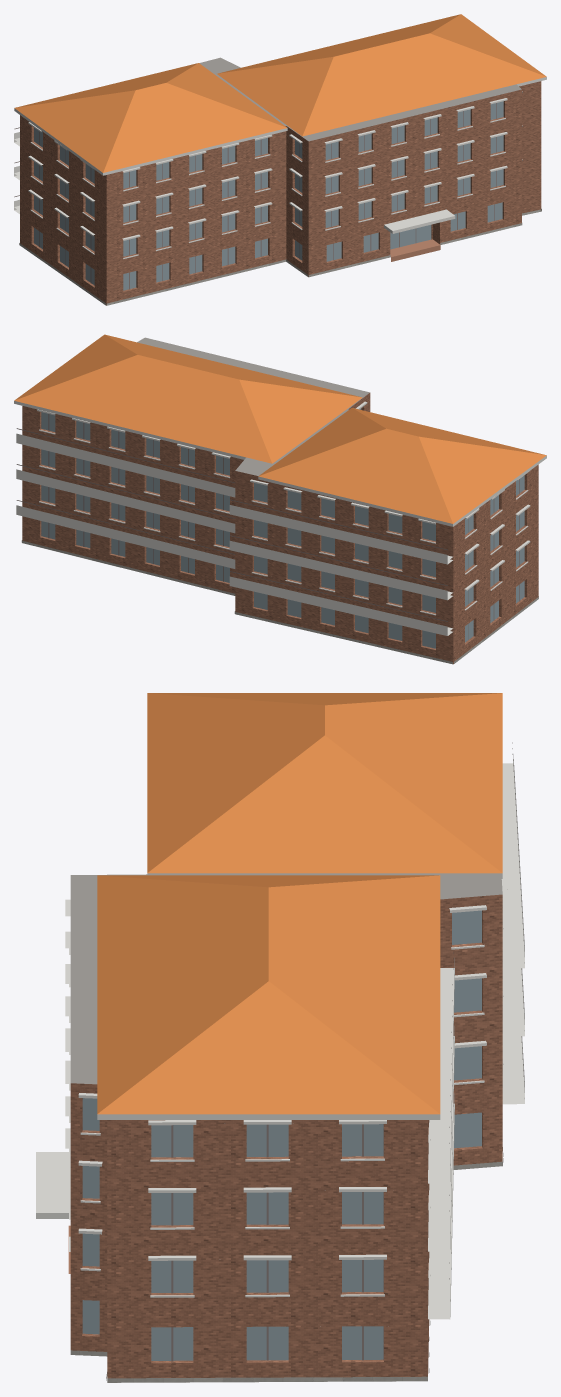
3 views of the same model, one above another, from view 1: azimuth 30°, elevation 25°; view 2: azimuth 150°, elevation 25°; view 3: azimuth 270°, elevation 25° (orthographic). The views are drawn at different scales.
Parts seen in each view (by area): view 1: osm136242801__wall, osm136242801__roofAccent, osm136242801__glass, osm136242801__trim, osm136242801__roof, osm136242801__base, osm136242801__frame, osm136242801__canopy, osm136242801__entranceThreshold_0; view 2: osm136242801__wall, osm136242801__roofAccent, osm136242801__trim, osm136242801__glass, osm136242801__frame, osm136242801__roof, osm136242801__base; view 3: osm136242801__roofAccent, osm136242801__wall, osm136242801__glass, osm136242801__trim, osm136242801__roof, osm136242801__canopy, osm136242801__base, osm136242801__frame.
Part boxes in pixels (x1,y1,x2,y2): osm136242801__wall: [20, 81, 541, 305]; osm136242801__roofAccent: [14, 14, 546, 172]; osm136242801__glass: [34, 101, 503, 290]; osm136242801__trim: [14, 77, 546, 259]; osm136242801__roof: [106, 57, 521, 305]; osm136242801__base: [19, 209, 541, 305]; osm136242801__frame: [14, 103, 496, 289]; osm136242801__canopy: [384, 209, 455, 233]; osm136242801__entranceThreshold_0: [390, 239, 440, 261]; osm136242801__wall: [22, 393, 538, 664]; osm136242801__roofAccent: [14, 334, 546, 523]; osm136242801__trim: [14, 401, 546, 635]; osm136242801__glass: [41, 408, 524, 648]; osm136242801__frame: [16, 414, 519, 640]; osm136242801__roof: [137, 337, 369, 475]; osm136242801__base: [21, 540, 538, 664]; osm136242801__roofAccent: [97, 693, 502, 1114]; osm136242801__wall: [70, 894, 502, 1378]; osm136242801__glass: [82, 910, 481, 1360]; osm136242801__trim: [65, 754, 524, 1319]; osm136242801__roof: [70, 873, 502, 1382]; osm136242801__canopy: [36, 1152, 70, 1218]; osm136242801__base: [70, 1147, 503, 1382]; osm136242801__frame: [171, 742, 523, 1361].
Size of the model in its own units: 39.94 by 15.18 by 19.61.
10 materials, 2 textured.
